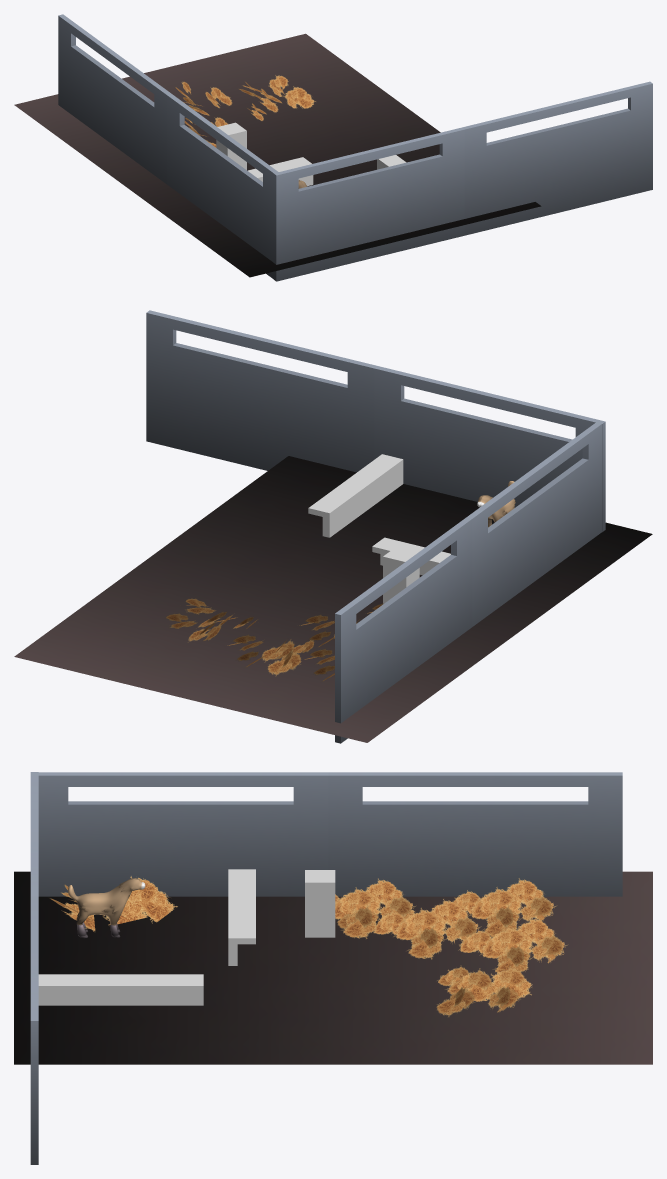
The model's file is Flooor.glb.
3 views of the same model, one above another, from view 1: azimuth 30°, elevation 25°; view 2: azimuth 150°, elevation 25°; view 3: azimuth 270°, elevation 25° (orthographic). The views are drawn at different scales.
Parts seen in each view (by area): view 1: Plane.015, Plane.001, Plane.014, Hay, Cube, Plane.029; view 2: Plane.001, Plane.015, Plane.014, Plane.016, Hay, Cube, Plane.029; view 3: Plane.001, Plane.014, Hay, Plane.016, Plane.015, Plane.029, Cube, Plane.027, Deer Body.
Boxes of the visible parts, x1,y1,x2,y2 form: Plane.015: (273, 81, 652, 281); Plane.001: (14, 33, 541, 277); Plane.014: (58, 14, 280, 278); Hay: (175, 75, 315, 147); Cube: (216, 122, 246, 169); Plane.029: (248, 157, 313, 186); Plane.001: (14, 456, 652, 742); Plane.015: (146, 310, 605, 532); Plane.014: (335, 421, 603, 743); Plane.016: (308, 454, 403, 537); Hay: (165, 598, 383, 681); Cube: (383, 546, 419, 603); Plane.029: (372, 537, 450, 575); Plane.001: (14, 871, 652, 1064); Plane.014: (33, 772, 622, 896); Hay: (335, 878, 567, 1017); Plane.016: (38, 974, 203, 1005); Plane.015: (30, 772, 38, 1164); Plane.029: (228, 869, 255, 965); Cube: (305, 870, 335, 937); Plane.027: (49, 876, 177, 931); Deer Body: (68, 878, 145, 938).
Size of the model in its own units: 42.4 by 10.5 by 42.3.
4 materials, 4 textured.
